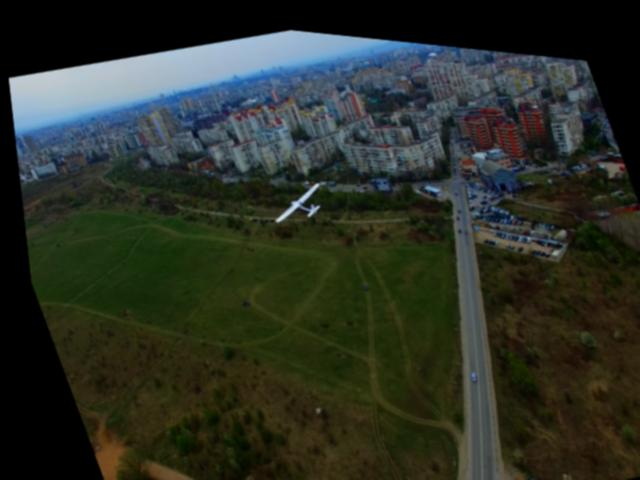plane: (259, 169, 328, 222)
